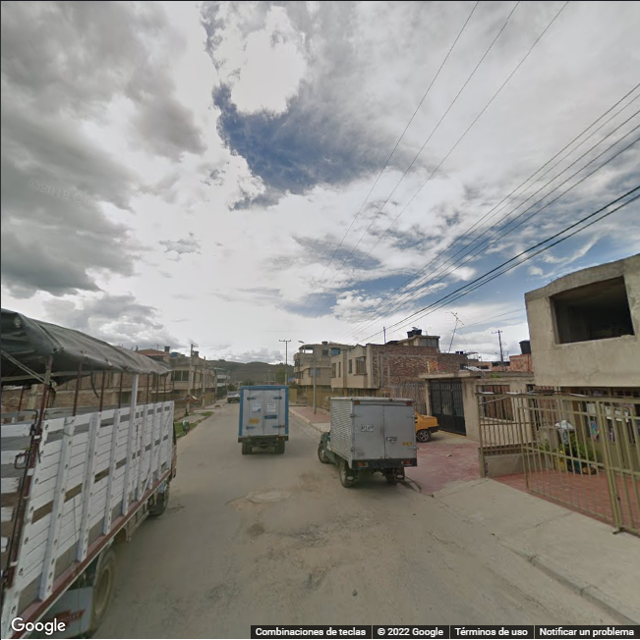D00: (473, 556, 554, 611), (312, 555, 339, 592)
D40: (291, 520, 338, 550), (245, 515, 271, 541)
